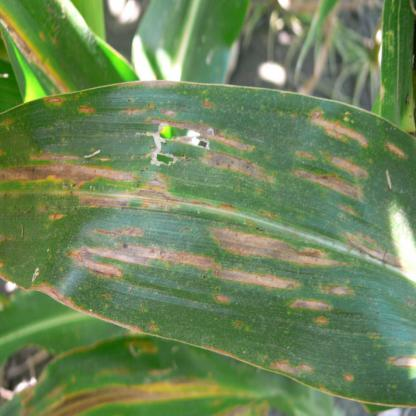Corn Gray leaf spot: (1, 74, 416, 411)
